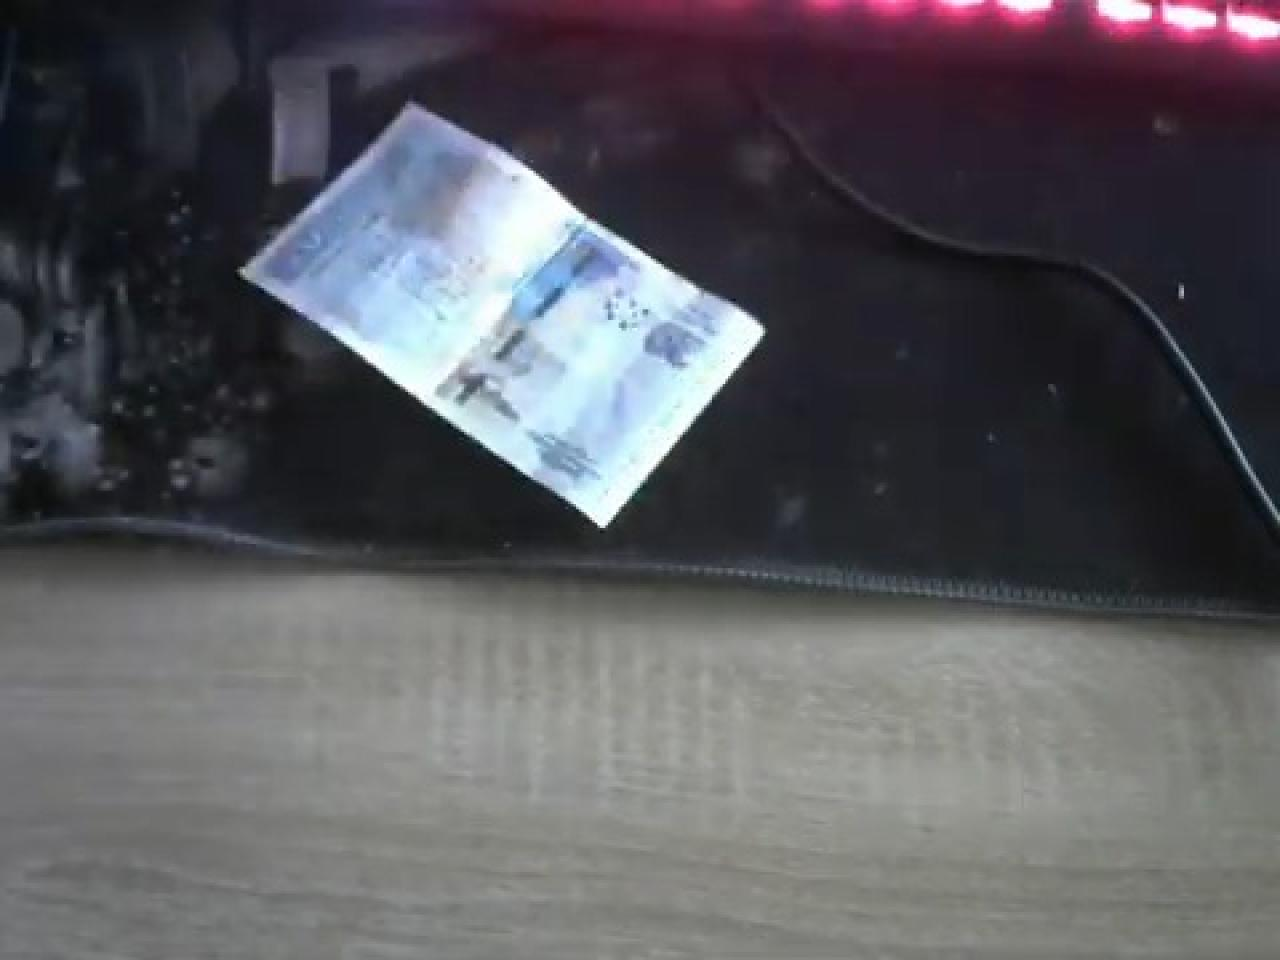20leva: (235, 96, 765, 530)
